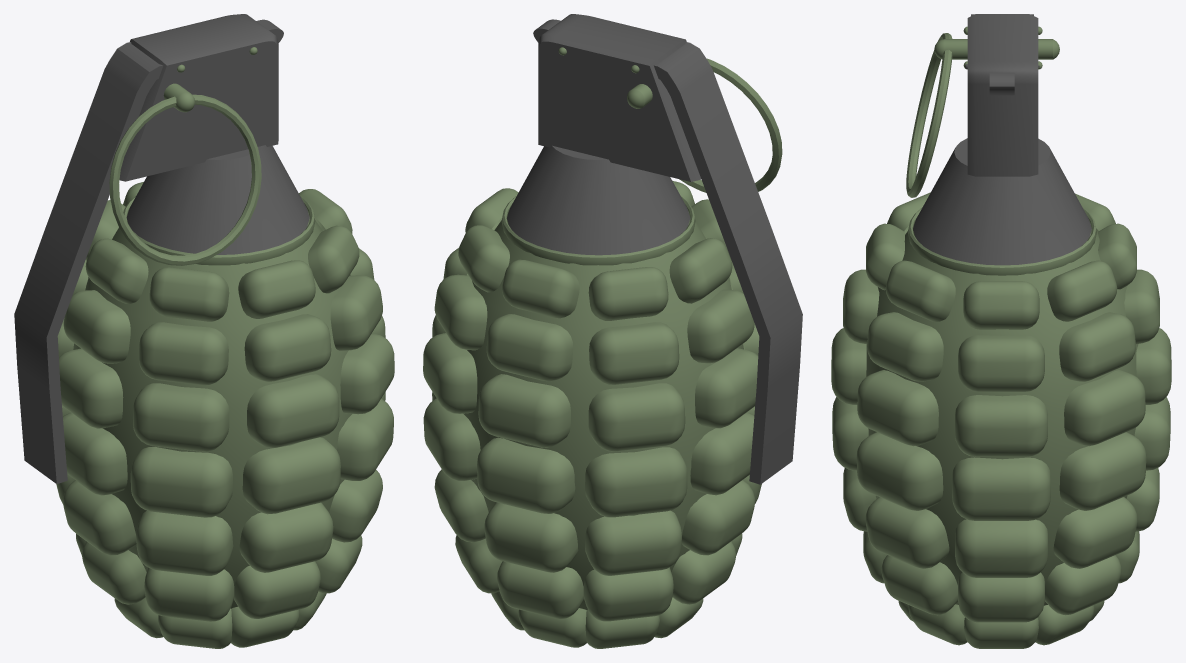
File: Grnade.FBX
The picture shows the model from 3 angles, left to right: view 1: azimuth 30°, elevation 25°; view 2: azimuth 150°, elevation 25°; view 3: azimuth 270°, elevation 25°; orthographic projection. The views are drawn at different scales.
Visible parts, largest first — view 1: grenade, gndpin01; view 2: grenade, gndpin01; view 3: grenade, gndpin01.
Boxes of the visible parts, box(x1,y1,x2,y2) form: grenade: box(14, 14, 394, 648); gndpin01: box(109, 83, 261, 265); grenade: box(423, 14, 802, 648); gndpin01: box(627, 58, 782, 192); grenade: box(831, 14, 1171, 648); gndpin01: box(906, 33, 1059, 197).
Bounding box in the file's own units: 7.91 × 13 × 7.04.
